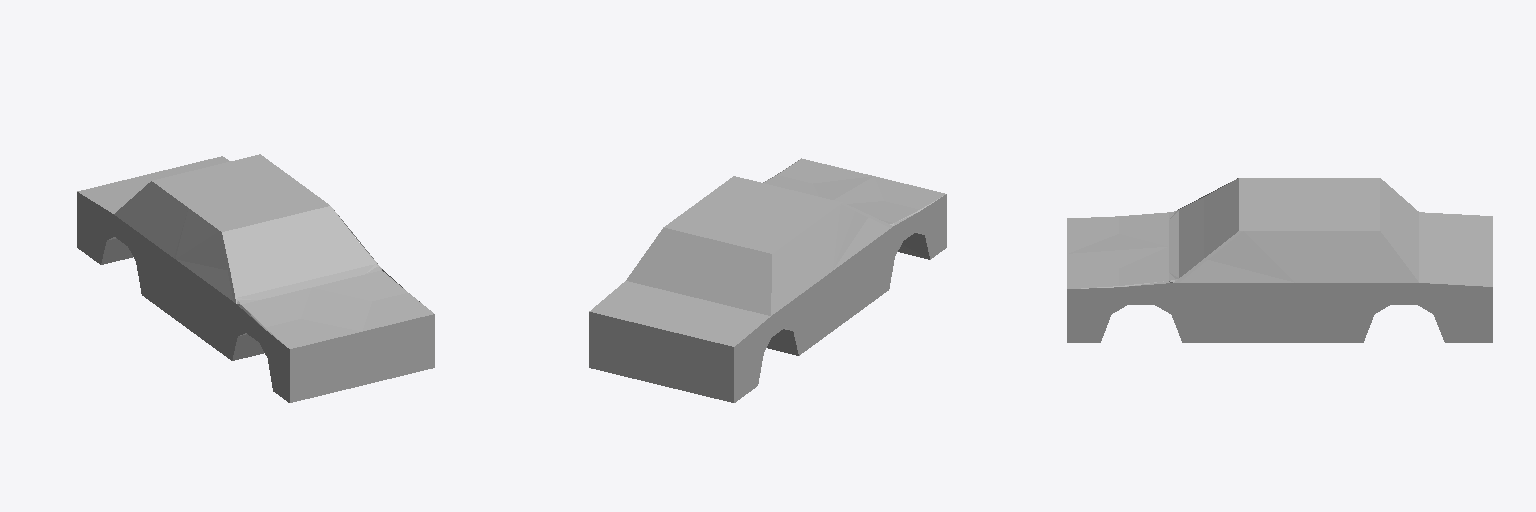
The model's file is car2.obj.
3 renders of one model, left to right at view 1: azimuth 30°, elevation 25°; view 2: azimuth 150°, elevation 25°; view 3: azimuth 270°, elevation 25°, orthographic.
Parts seen in each view (by area): view 1: Cube_Cube.001; view 2: Cube_Cube.001; view 3: Cube_Cube.001.
Boxes of the visible parts, <box> form: Cube_Cube.001: <box>77,154,434,402</box>; Cube_Cube.001: <box>589,158,946,402</box>; Cube_Cube.001: <box>1067,178,1492,342</box>.
Size of the model in its own units: 1.69 by 1.15 by 4.27.